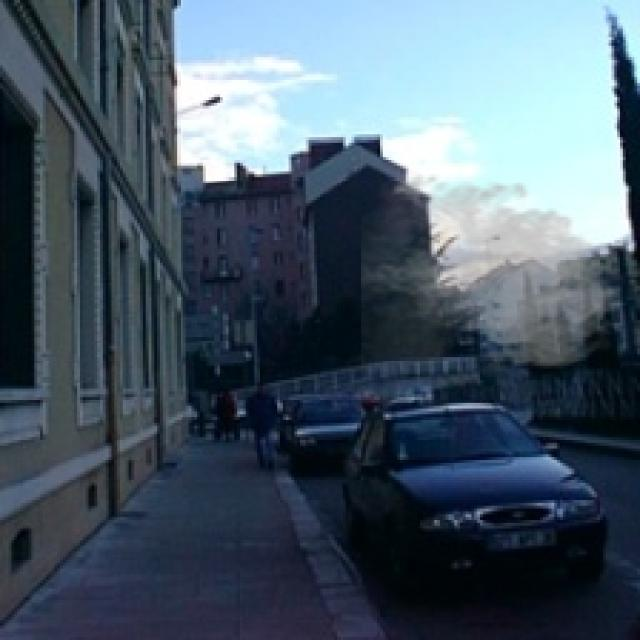smoke: (360, 169, 631, 374)
